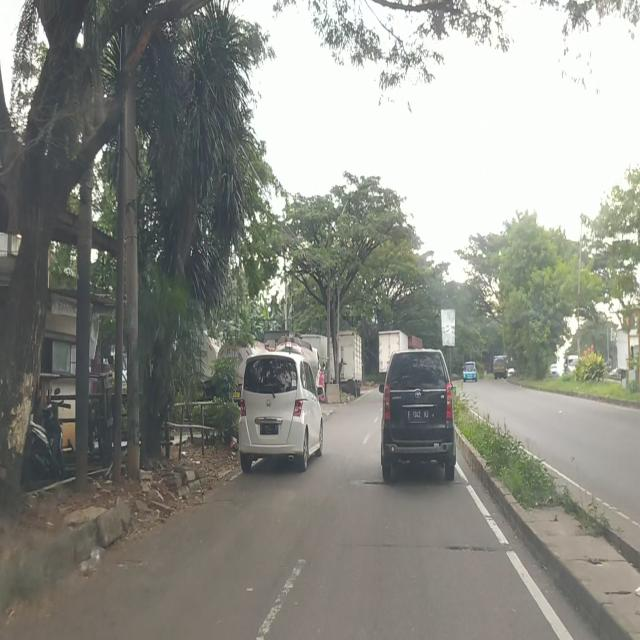Sewer Cover: (338, 540, 492, 556), (363, 480, 392, 485)
